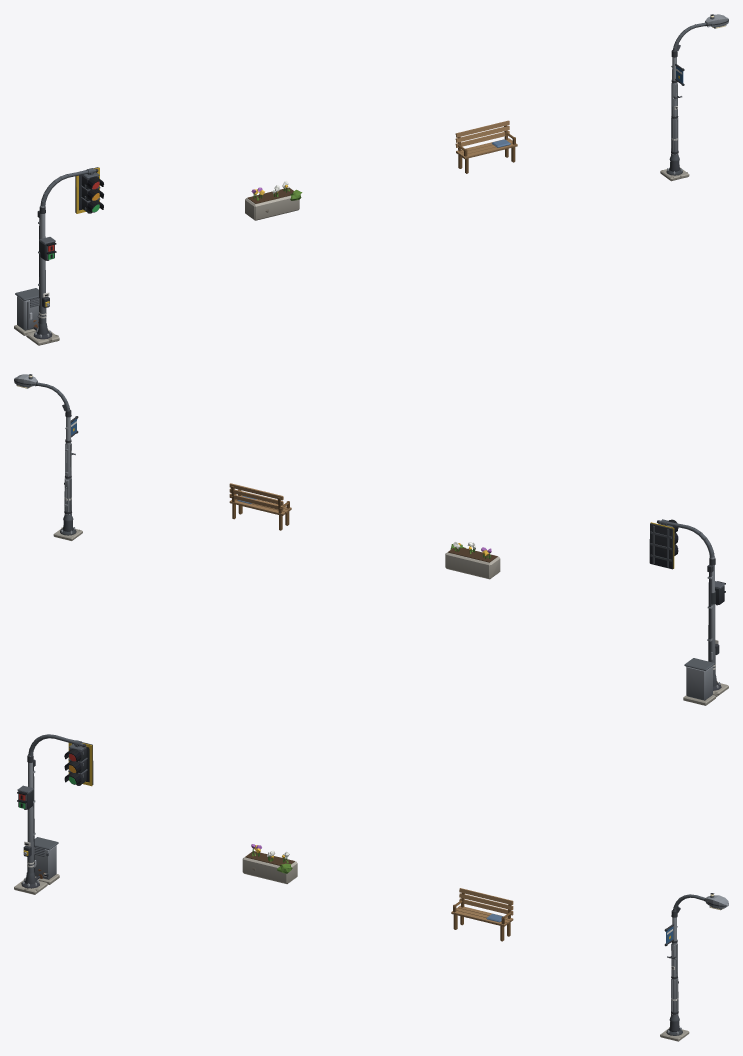
The model's file is stadtmoebel.glb.
3 renders of one model, top to bottom at view 1: azimuth 30°, elevation 25°; view 2: azimuth 150°, elevation 25°; view 3: azimuth 330°, elevation 25°, orthographic.
Visible parts, largest first — view 1: traffic_light_01, street_lamp_01, plaza_bench_01, plaza_planter_01; view 2: traffic_light_01, street_lamp_01, plaza_planter_01, plaza_bench_01; view 3: traffic_light_01, plaza_bench_01, street_lamp_01, plaza_planter_01.
Part boxes in pixels (x1,y1,x2,y2): traffic_light_01: (14, 167, 103, 345); street_lamp_01: (660, 14, 728, 181); plaza_bench_01: (455, 120, 517, 173); plaza_planter_01: (245, 180, 302, 220); traffic_light_01: (649, 519, 728, 705); street_lamp_01: (14, 374, 82, 540); plaza_planter_01: (445, 542, 500, 579); plaza_bench_01: (229, 483, 291, 530); traffic_light_01: (14, 734, 93, 894); plaza_bench_01: (451, 888, 513, 941); street_lamp_01: (660, 893, 728, 1041); plaza_planter_01: (242, 844, 297, 883).
Bounding box in the file's own units: 19.9 × 4.3 × 1.34.
